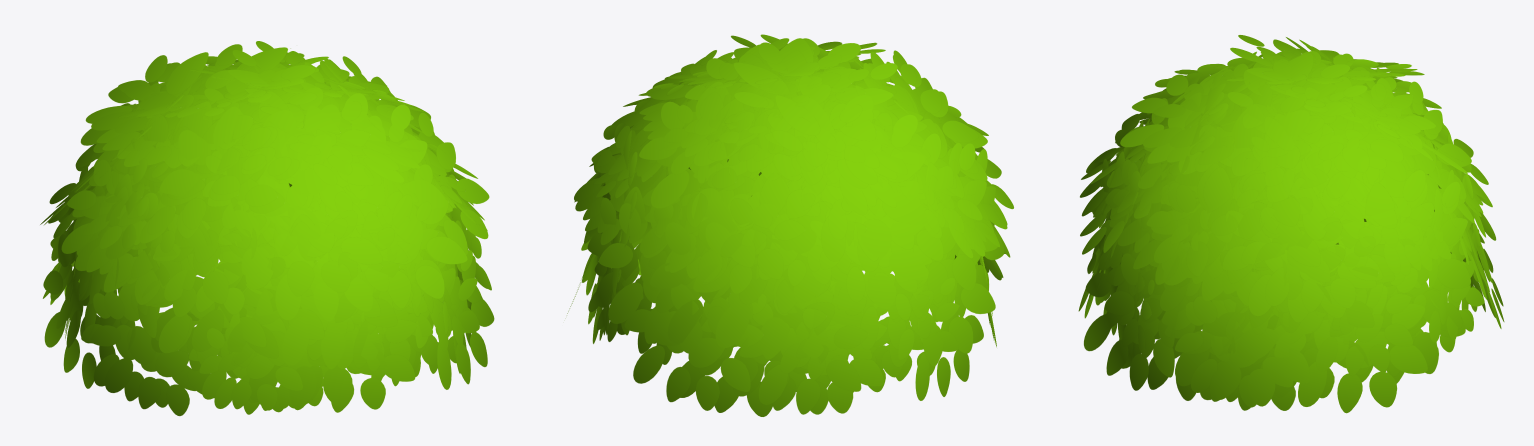
File: Bush.glb
3 renders of one model, left to right at view 1: azimuth 30°, elevation 25°; view 2: azimuth 150°, elevation 25°; view 3: azimuth 270°, elevation 25°, orthographic. The views are drawn at different scales.
Visible parts, largest first — view 1: Bush; view 2: Bush; view 3: Bush.
Part boxes in pixels (x1,y1,x2,y2): Bush: (40,41,494,416); Bush: (567,34,1013,416); Bush: (1078,35,1504,413).
Size of the model in its own units: 1.09 by 0.6916 by 1.05.
1 material, 1 textured.
